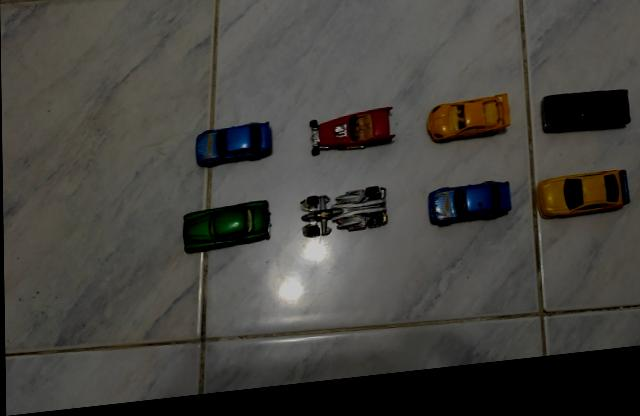01_FORD: (540, 105, 630, 148)
02_OZSOME: (535, 184, 629, 232)
03_V8: (308, 115, 394, 164)
04_MERZEDES: (193, 128, 274, 175), (426, 193, 510, 238)
05_DC121: (298, 195, 386, 246)
06_MASERATI: (180, 207, 270, 259)
07_RHLTURBO: (425, 106, 510, 156)
